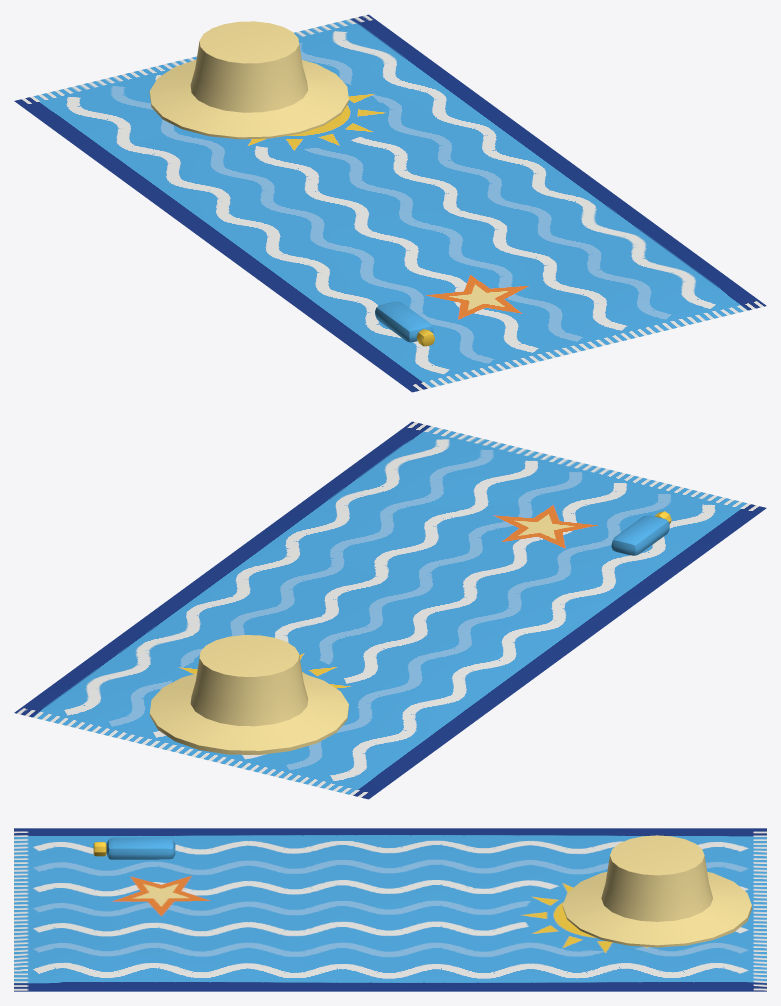
Rendered from toalha_praia_ondas.glb.
3 renders of one model, top to bottom at view 1: azimuth 30°, elevation 25°; view 2: azimuth 150°, elevation 25°; view 3: azimuth 270°, elevation 25°, orthographic. The views are drawn at different scales.
Visible parts, largest first — view 1: toalha_praia_ondas; view 2: toalha_praia_ondas; view 3: toalha_praia_ondas.
Part boxes in pixels (x1,y1,x2,y2): toalha_praia_ondas: [14, 14, 766, 392]; toalha_praia_ondas: [14, 421, 766, 799]; toalha_praia_ondas: [14, 828, 766, 991].
Bounding box in the file's own units: 0.9 × 0.149 × 1.75.
2 materials, 2 textured.
